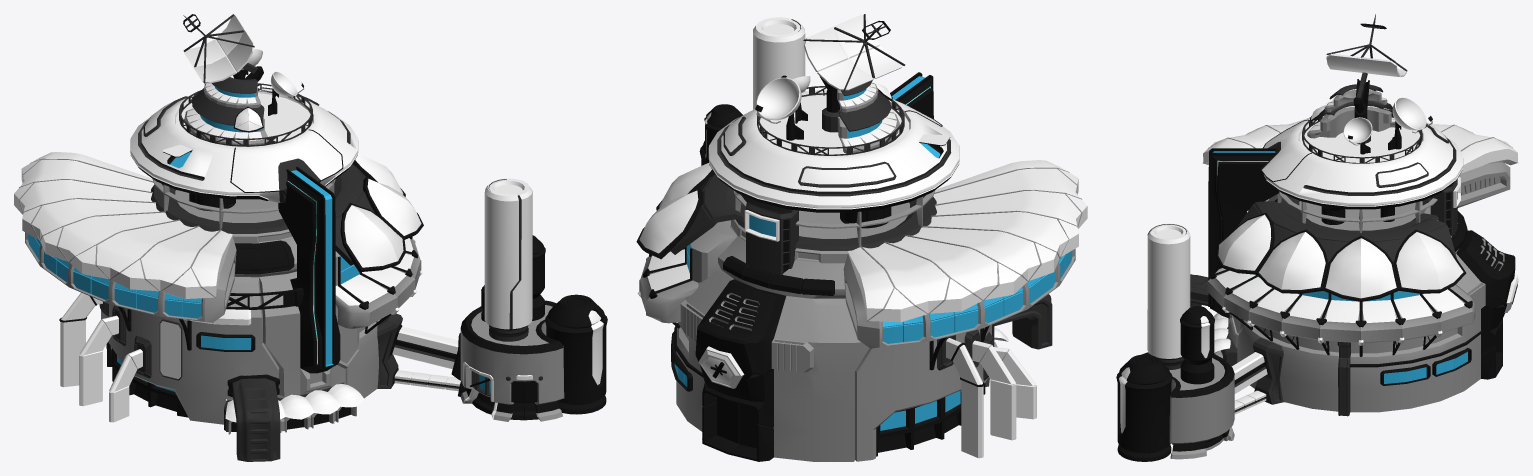
Rendered from 09_sisul.FBX.
3 views of the same model, side by side, from view 1: azimuth 30°, elevation 25°; view 2: azimuth 150°, elevation 25°; view 3: azimuth 270°, elevation 25° (orthographic). The views are drawn at different scales.
Parts seen in each view (by area): view 1: high_Poly_Main; view 2: high_Poly_Main; view 3: high_Poly_Main.
Part boxes in pixels (x1,y1,x2,y2): high_Poly_Main: (14, 14, 607, 461); high_Poly_Main: (636, 14, 1087, 461); high_Poly_Main: (1116, 14, 1518, 461).
Bounding box in the file's own units: 8416 × 6581 × 7464.
